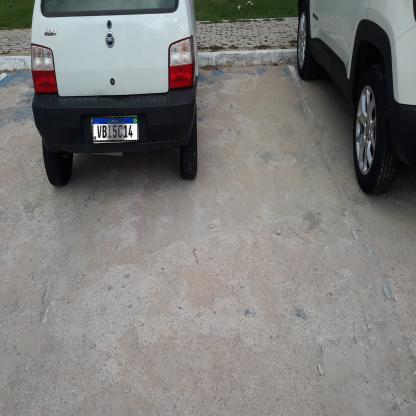PlacaM: (92, 116, 138, 142)
